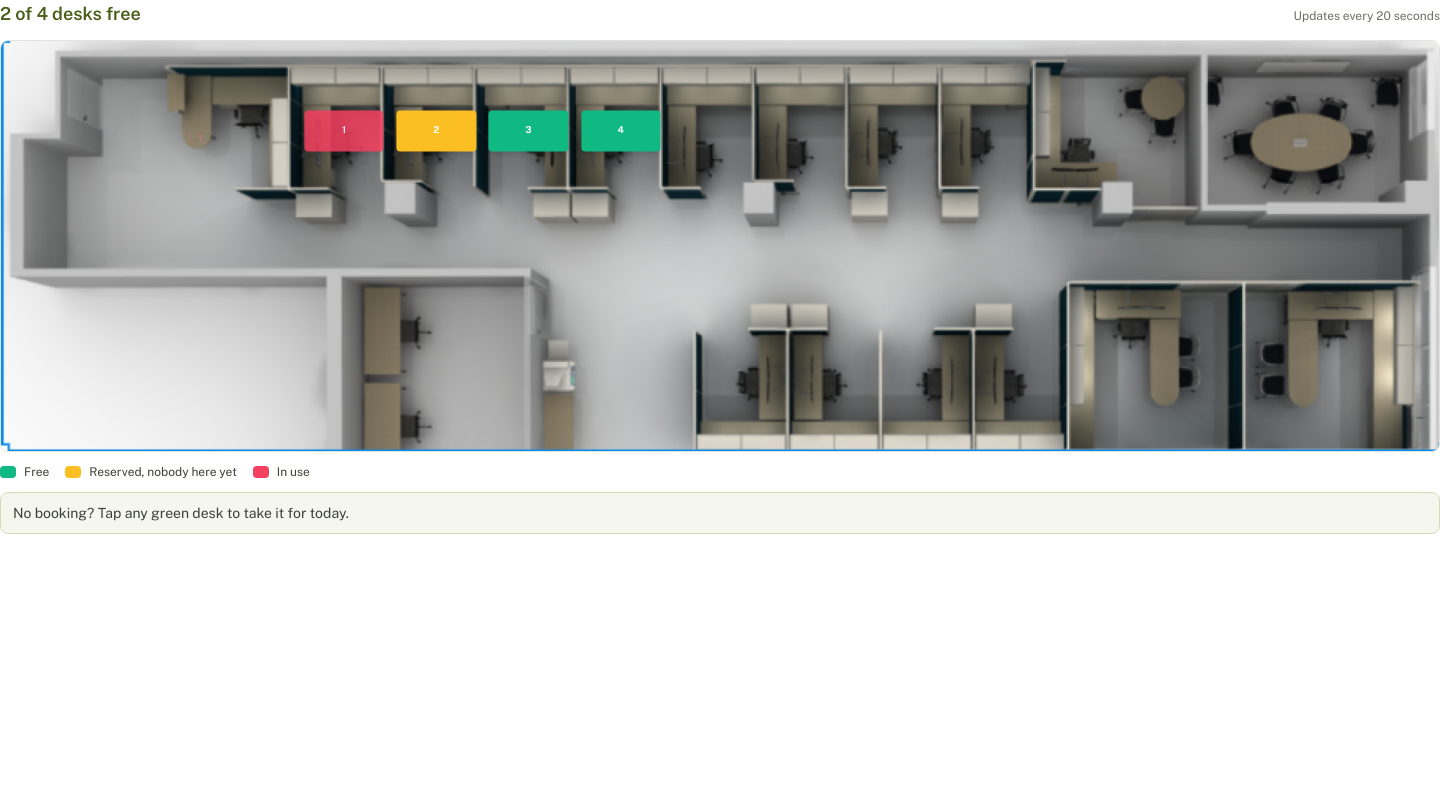
Scenario: the form says what naming a host actually means
Expected: the heading "2 of 4 desks free" is shown, x1=0 y1=0 x2=141 y2=28
Click the button named "Desk 4, free". click: click(621, 131)
box: x1=581 y1=110 x2=660 y2=151
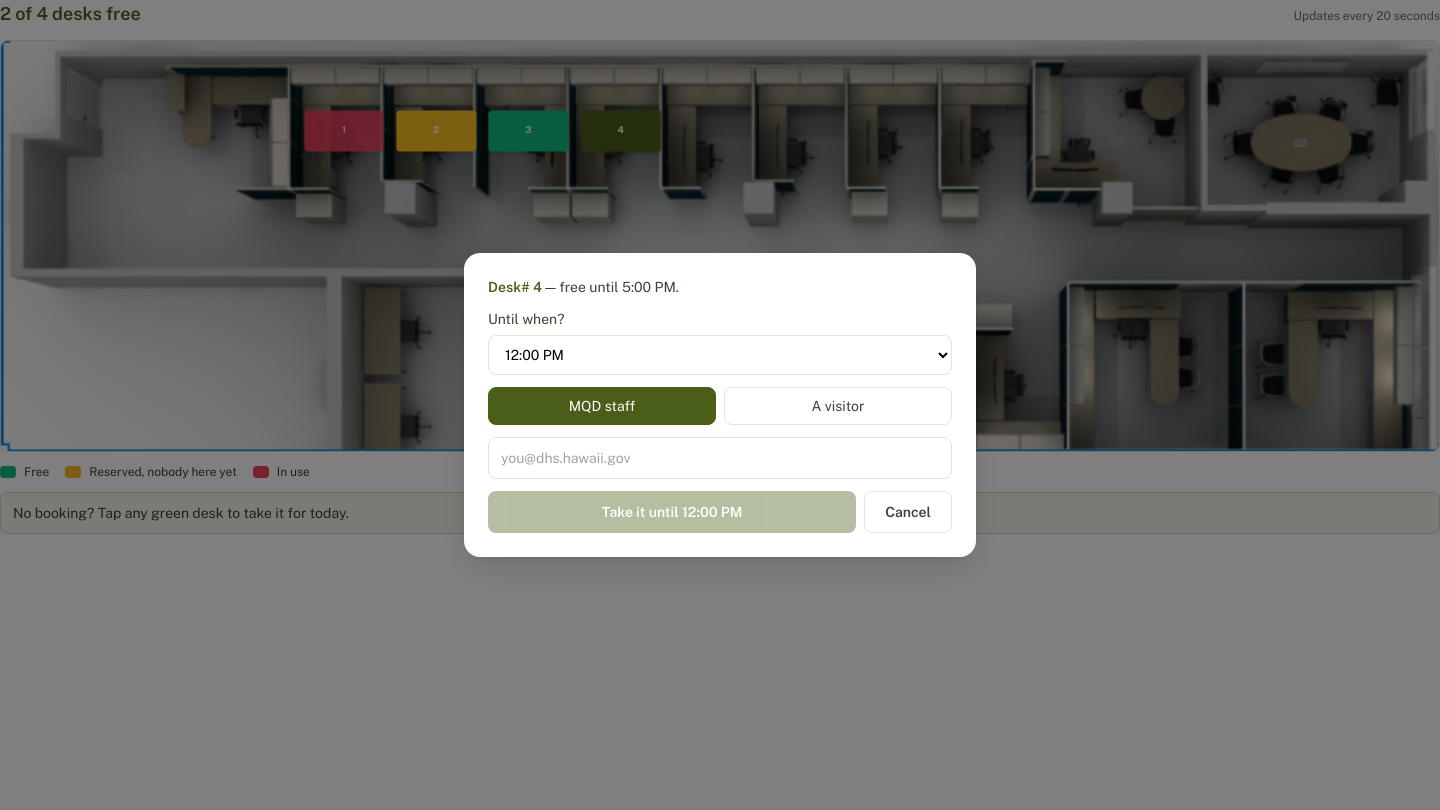
Click the button "A visitor". click: click(838, 406)
box: x1=724 y1=387 x2=952 y2=425
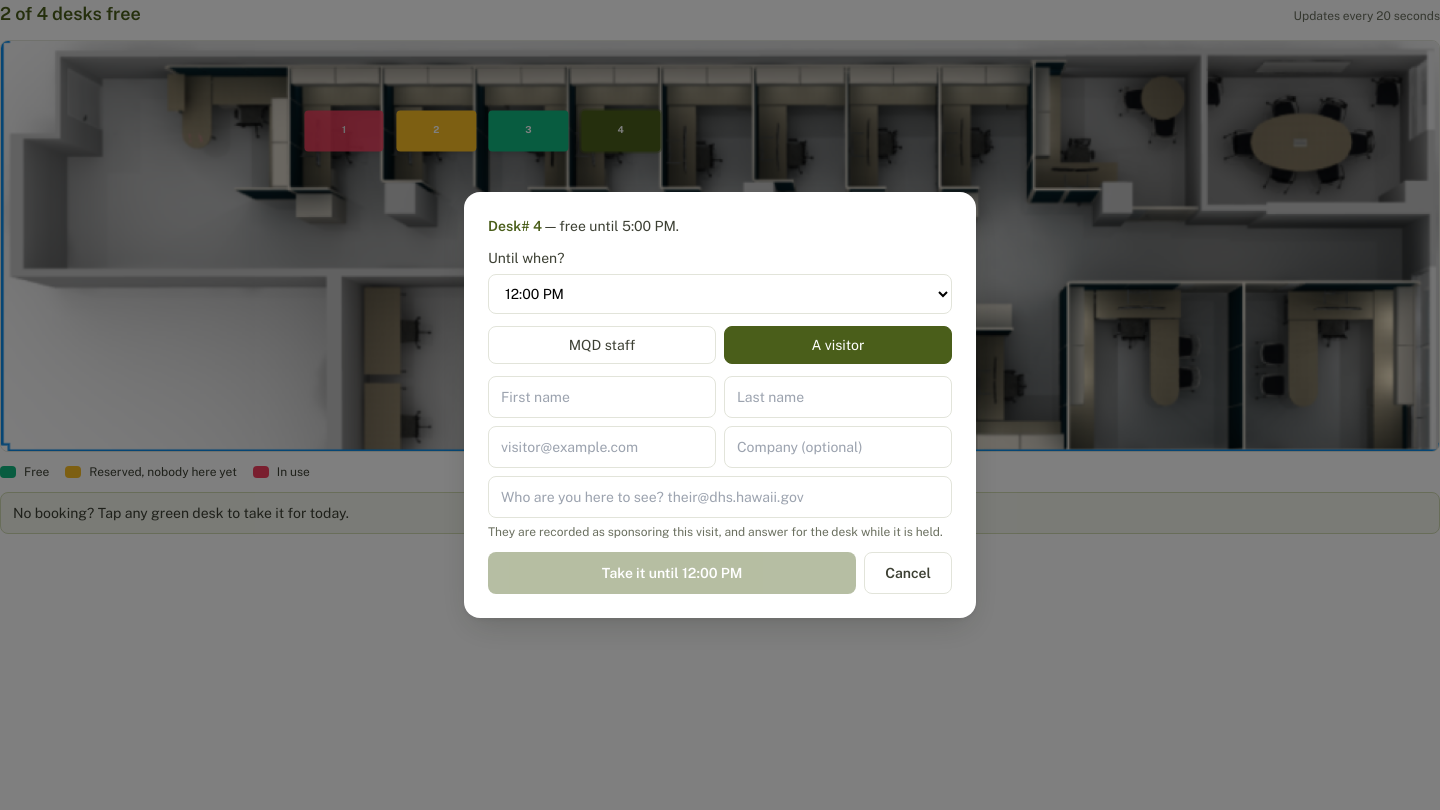
Expected: the text "recorded as sponsoring this visit" is shown, x1=488 y1=525 x2=943 y2=539
